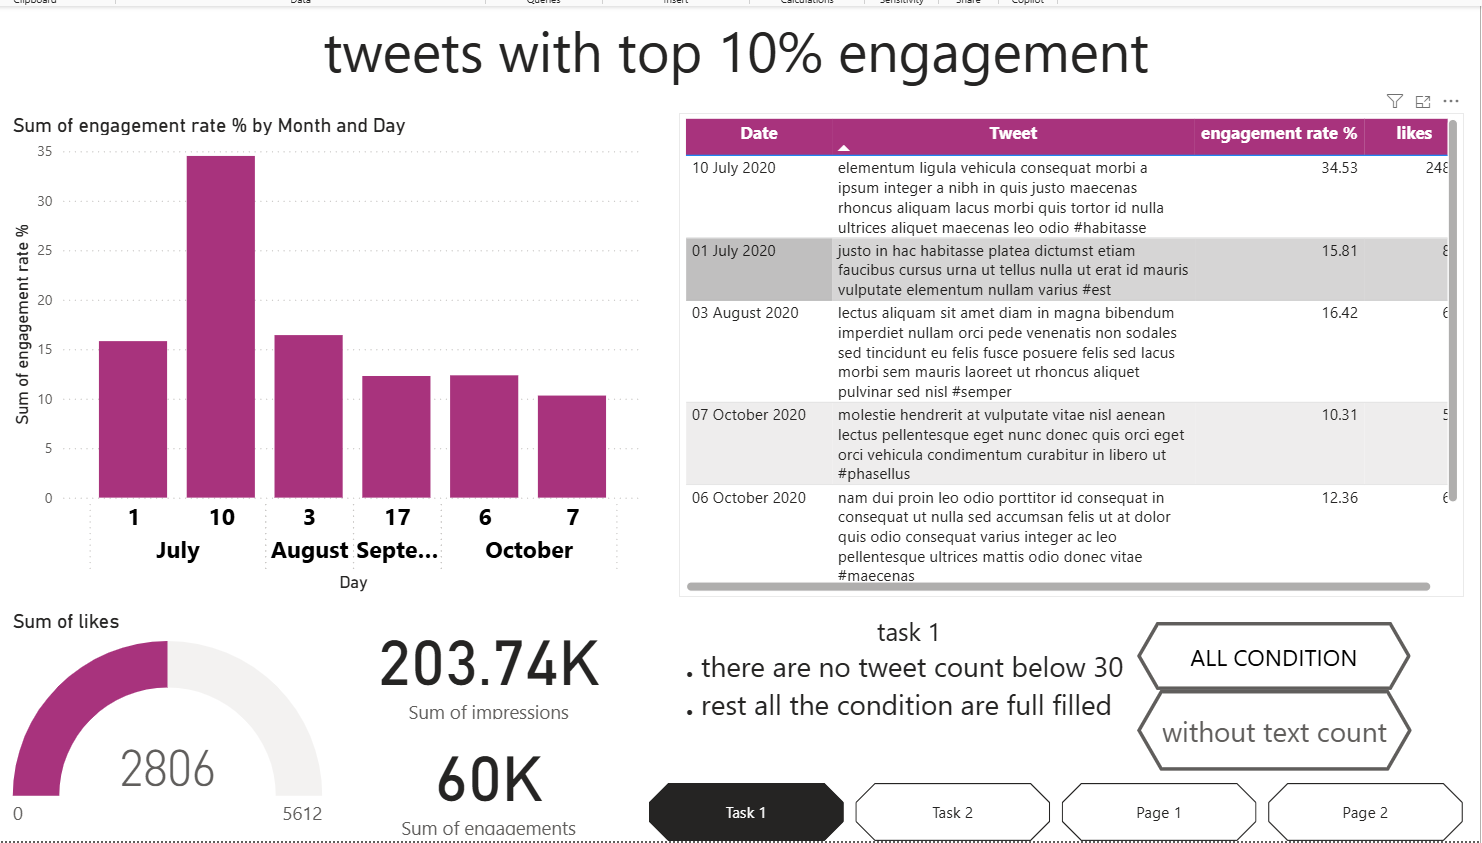

The page's visual inventory and layout, read from the dashboard file:
{"tool":"powerbi","page":{"name":"Task 1","canvas":[1280,720],"ordinal":0},"visuals":[{"type":"textbox","box":[9.7,0,1271.1,76.1],"z":0},{"type":"clusteredColumnChart","fields":{"Category":["SocialMedia (1).Date.Variation.Date Hierarchy.Month","SocialMedia (1).Date.Variation.Date Hierarchy.Day"],"Y":["Sum(SocialMedia (1).engagement rate %)"]},"box":[9.7,92.3,553.8,417.8],"z":1000},{"type":"tableEx","fields":{"Values":["SocialMedia (1).Date","SocialMedia (1).Tweet","SocialMedia (1).engagement rate %","SocialMedia (1).likes"]},"box":[589.4,92.3,676.8,417.8],"z":2000},{"type":"gauge","fields":{"Y":["Sum(SocialMedia (1).likes)"]},"box":[9.7,519.8,276.9,200.8],"z":3000},{"type":"card","fields":{"Values":["Sum(SocialMedia (1).impressions)"]},"box":[286.6,519.8,276.9,100.4],"z":4000},{"type":"card","fields":{"Values":["Sum(SocialMedia (1).engagements)"]},"box":[286.6,620.2,276.9,100.4],"z":5000},{"type":"pageNavigator","box":[563.5,670.4,702.7,50.2],"z":6000},{"type":"textbox","box":[589.6,519.7,395,138],"z":7000},{"type":"actionButton","box":[984.6,531,236.2,58.6],"z":7001},{"type":"actionButton","box":[984.5,590.2,237.1,69.6],"z":7002}]}

Visuals, with their boxes on the page's 1280x720 design canvas (x1, y1, x2, y2). These are canvas units, not pixel positions in the 1482x843 screenshot, which may show the page scaled, cropped or inside an application window:
textbox: 10:0:1281:76
clusteredColumnChart - SocialMedia (1).Date.Variation.Date Hierarchy.Month x SocialMedia (1).Date.Variation.Date Hierarchy.Day: 10:92:564:510
tableEx - SocialMedia (1).Date x SocialMedia (1).Tweet: 589:92:1266:510
gauge - Sum(SocialMedia (1).likes): 10:520:287:721
card - Sum(SocialMedia (1).impressions): 287:520:564:620
card - Sum(SocialMedia (1).engagements): 287:620:564:721
pageNavigator: 564:670:1266:721
textbox: 590:520:985:658
actionButton: 985:531:1221:590
actionButton: 984:590:1222:660
